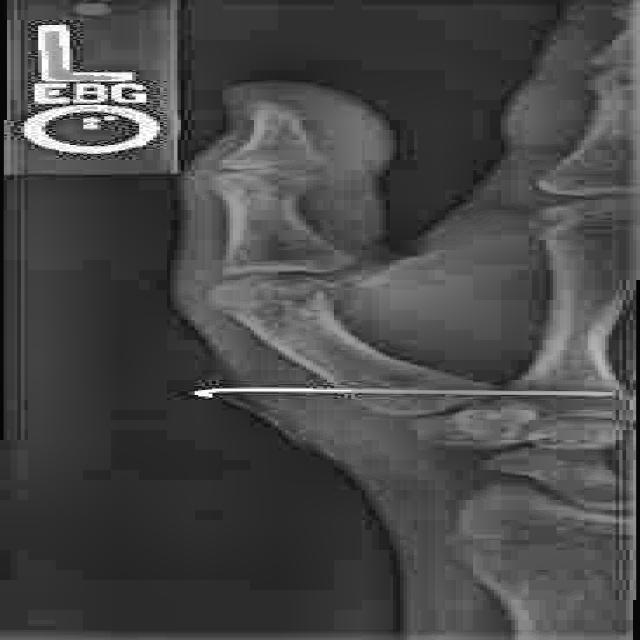fingers positive: (228, 158, 338, 198)
